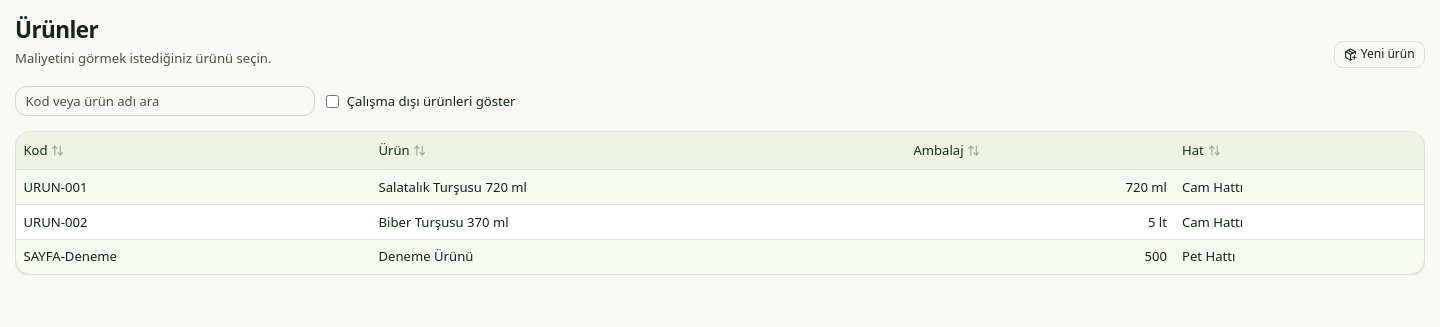
Test: Urunler (Faz 5c çalışma dışı anahtarı) › 'Çalışma dışı ürünleri göster' tum=true ile sorgular; Durum sütunu Dahil / Çalışma dışı rozetlerini gösterir
This screenshot has width=1440, height=327.
Expected: the text "Salatalık Turşusu 720 ml" is shown, [371,170,906,205]
Expected: the text "Yeni Ürün 720 ml" is not shown
Click the checkbox labelled "Çalışma dışı ürünleri göster". click: (333, 101)
box: [326,95,339,108]
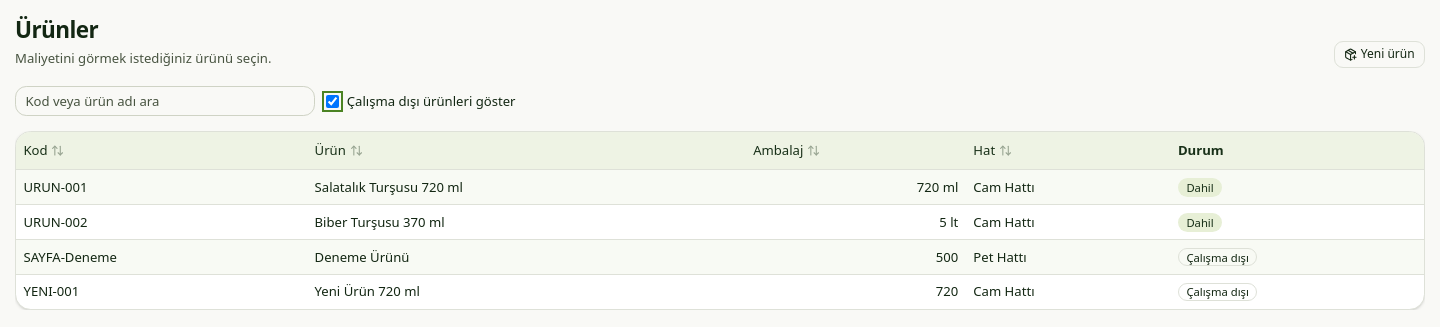
Result: the column heading "Durum" is shown at [1170,132,1424,170]
Result: the icon "Dahil" in the row of "URUN-002" is shown at [1186,215,1214,230]
Click the checkbox labelled "Çalışma dışı ürünleri göster". click: (333, 101)
box: [326,95,339,108]
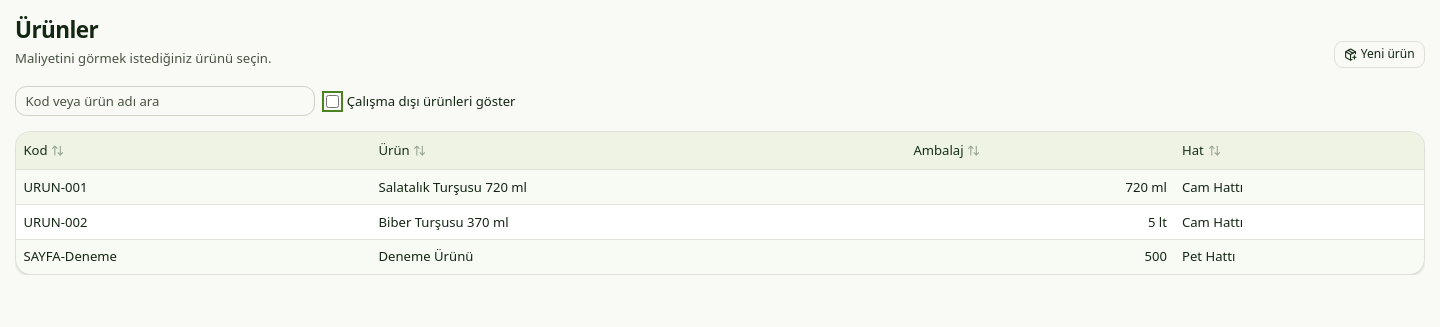
Result: the text "Yeni Ürün 720 ml" is gone
